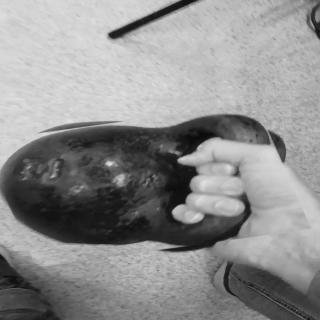kettlebell: (1, 112, 301, 260)
